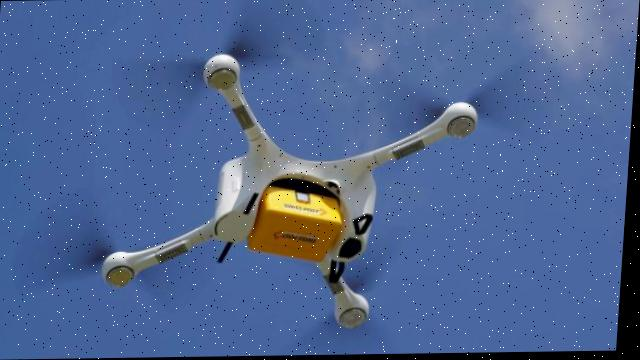drone: (10, 0, 591, 354)
